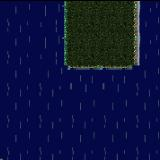Slow: (0, 70, 158, 160), (0, 0, 62, 70), (140, 0, 159, 70)
